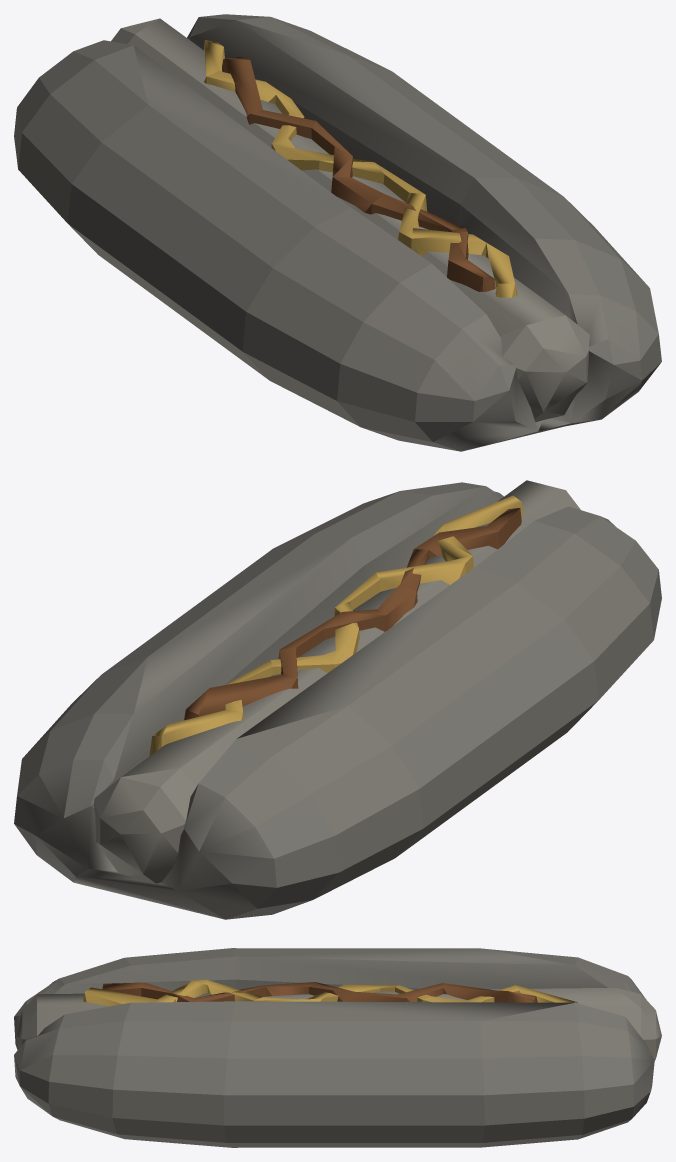
The model's file is cc0-hotdog-lod1.glb.
3 views of the same model, one above another, from view 1: azimuth 30°, elevation 25°; view 2: azimuth 150°, elevation 25°; view 3: azimuth 270°, elevation 25° (orthographic). The views are drawn at different scales.
Parts seen in each view (by area): view 1: part_0; view 2: part_0; view 3: part_0.
Part boxes in pixels (x1=…): part_0: x1=14, y1=14, x2=661, y2=451; part_0: x1=14, y1=480, x2=661, y2=919; part_0: x1=14, y1=948, x2=661, y2=1147.
Size of the model in its own units: 0.7853 by 0.4028 by 1.66.
